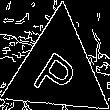P_NE: (31, 39, 85, 101)
